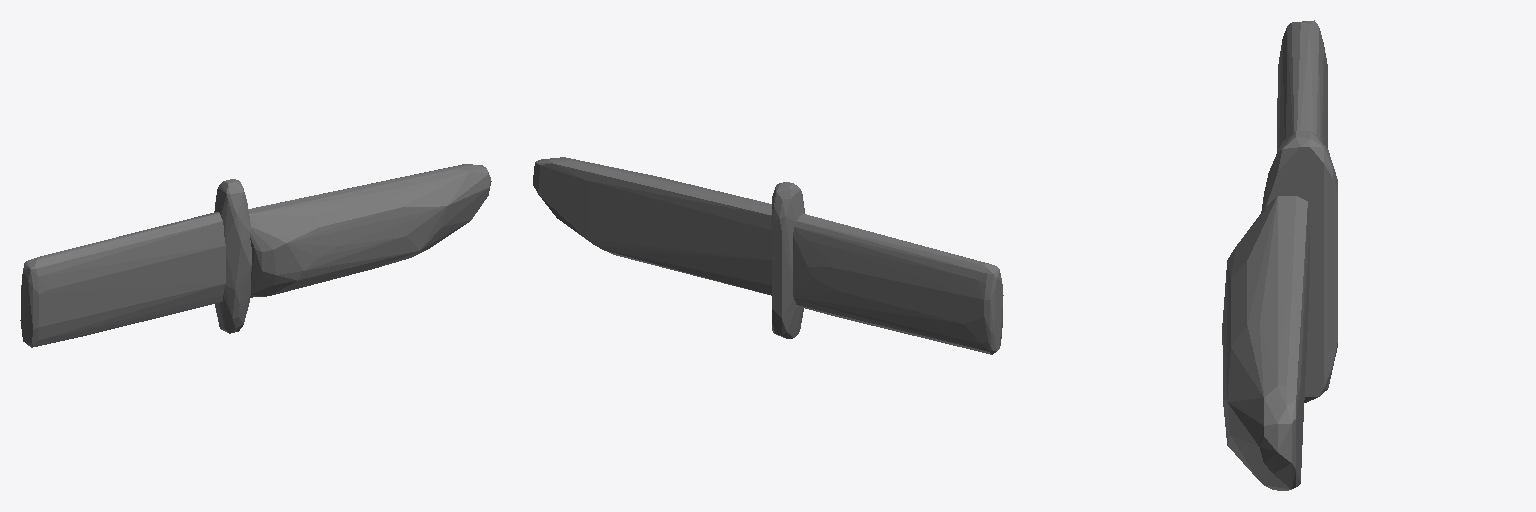
URDF robot description (knife_025):
<?xml version="1.0" ?>
<robot name="knife_025">
  <material name="color">
    <color rgba=".5 .5 .5 1"/>
  </material>

  <link name="base_link">
    <contact>
      <lateral_friction value="1.0"/>
      <rolling_friction value="0.001"/>
      <spinning_friction value="0.001"/>
      <inertia_scaling value="1.0"/>
    </contact>
    <inertial>
      <origin rpy="0 0 0" xyz="-0.00202512 -0.00319557 0.000442006"/>
       <mass value="0.1"/>
       <inertia ixx="1" ixy="0" ixz="0" iyy="1" iyz="0" izz="1"/>
    </inertial>

    <visual>
      <origin rpy="0 0 0" xyz="0 0 0"/>
      <geometry>
        <mesh filename="knife_025_vhacd_0_of_3.obj" scale="1 1 1"/>
      </geometry>
      <material name="color"/>
    </visual>
    <visual>
      <origin rpy="0 0 0" xyz="0 0 0"/>
      <geometry>
        <mesh filename="knife_025_vhacd_1_of_3.obj" scale="1 1 1"/>
      </geometry>
      <material name="color"/>
    </visual>
    <visual>
      <origin rpy="0 0 0" xyz="0 0 0"/>
      <geometry>
        <mesh filename="knife_025_vhacd_2_of_3.obj" scale="1 1 1"/>
      </geometry>
      <material name="color"/>
    </visual>

    <collision>
      <origin rpy="0 0 0" xyz="0 0 0"/>
      <geometry>
        <mesh filename="knife_025_vhacd_0_of_3.obj" scale="1 1 1"/>
      </geometry>
    </collision>
    <collision>
      <origin rpy="0 0 0" xyz="0 0 0"/>
      <geometry>
        <mesh filename="knife_025_vhacd_1_of_3.obj" scale="1 1 1"/>
      </geometry>
    </collision>
    <collision>
      <origin rpy="0 0 0" xyz="0 0 0"/>
      <geometry>
        <mesh filename="knife_025_vhacd_2_of_3.obj" scale="1 1 1"/>
      </geometry>
    </collision>

  </link>
</robot>

--- Facts derived from the render (not from the file) ---
The picture shows the robot from 3 angles, left to right: view 1: azimuth 30°, elevation 25°; view 2: azimuth 150°, elevation 25°; view 3: azimuth 270°, elevation 25°; orthographic projection.
Robot: knife_025 — 1 links, 0 joints (none); root link base_link; default pose: all joints at 0.
Visible links, largest first — view 1: base_link; view 2: base_link; view 3: base_link.
Boxes of the visible links, x1,y1,x2,y2 form: base_link: [20, 164, 491, 347]; base_link: [533, 157, 1003, 354]; base_link: [1222, 20, 1337, 490].
Bounding box of the posed robot: 0.1615 × 0.0199 × 0.0501 m (x, y, z).
Meshes: 3 distinct files referenced, 3 mesh visuals loaded (3 OBJ).